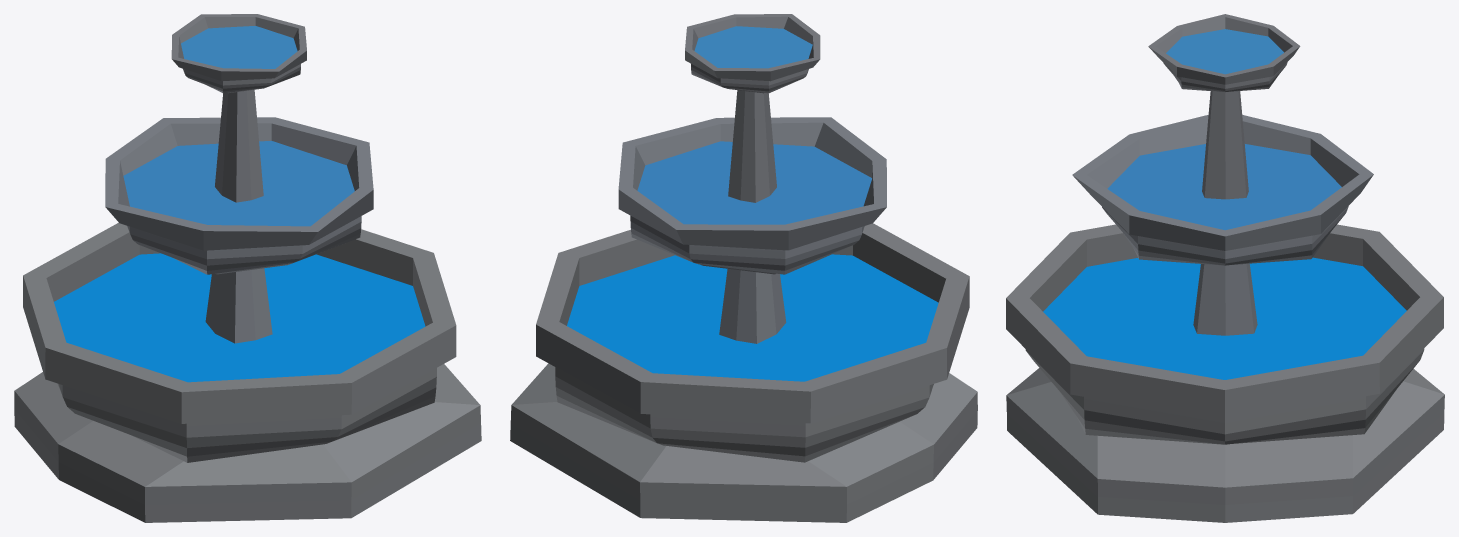
Rendered from Fuente.fbx.
The picture shows the model from 3 angles, left to right: view 1: azimuth 30°, elevation 25°; view 2: azimuth 150°, elevation 25°; view 3: azimuth 270°, elevation 25°; orthographic projection. The views are drawn at different scales.
Visible parts, largest first — view 1: Cylinder, Cylinder.001, Cylinder.002; view 2: Cylinder, Cylinder.001, Cylinder.002; view 3: Cylinder, Cylinder.001, Cylinder.002.
Part boxes in pixels (x1,y1,x2,y2): Cylinder: (14, 222, 481, 522); Cylinder.001: (105, 117, 373, 343); Cylinder.002: (171, 14, 306, 202); Cylinder: (510, 223, 977, 522); Cylinder.001: (618, 117, 886, 343); Cylinder.002: (685, 14, 820, 202); Cylinder: (1006, 224, 1444, 522); Cylinder.001: (1072, 115, 1373, 335); Cylinder.002: (1148, 14, 1300, 199).
Size of the model in its own units: 2 by 1.94 by 2.
